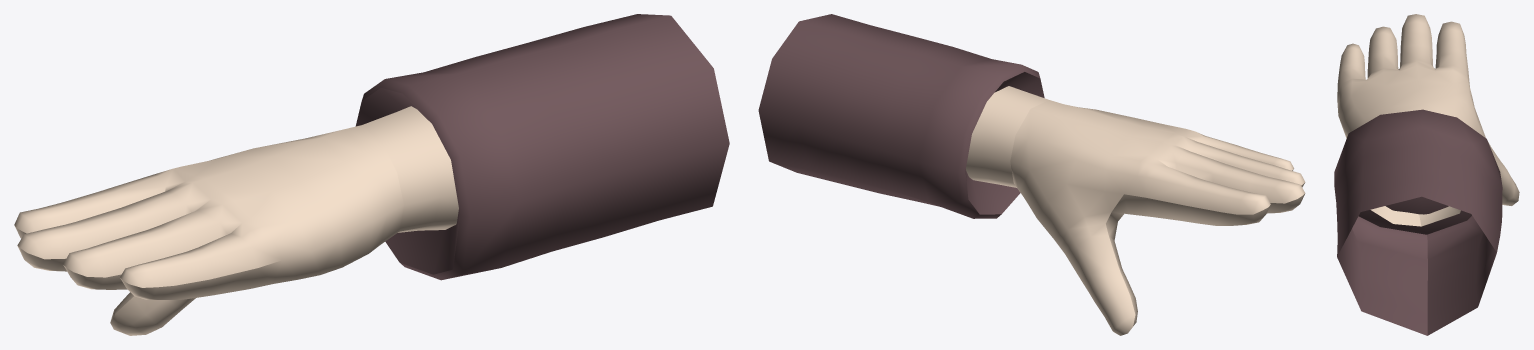
The model's file is mIzqOak.obj.
The picture shows the model from 3 angles, left to right: view 1: azimuth 30°, elevation 25°; view 2: azimuth 150°, elevation 25°; view 3: azimuth 270°, elevation 25°; orthographic projection. The views are drawn at different scales.
Parts seen in each view (by area): view 1: ManoIzq_body.001, LHand, LForeArmEX, LFingerE1, LFingerC3, LFingerD3, LFingerD1, LFingerC1, LFingerA3, LFingerE3, LFingerE2, LForeArm (+6 smaller); view 2: ManoIzq_body.001, LHand, LForeArmEX, LFingerA2, LFingerB1, LFingerA3, LFingerA1, LFingerB2, LFingerB3, LFingerC3, LForeArm, LFingerC1 (+4 smaller); view 3: ManoIzq_body.001, LHand, LForeArm, LFingerC3, LFingerC2, LFingerB3, LFingerB1, LFingerC1, LFingerA3, LFingerB2, LFingerD3, LFingerD1 (+5 smaller).
Part boxes in pixels (<box>): ManoIzq_body.001: <box>355,14,729,280</box>; LHand: <box>168,129,403,283</box>; LForeArmEX: <box>345,111,450,244</box>; LFingerE1: <box>194,223,281,298</box>; LFingerC3: <box>17,222,90,271</box>; LFingerD3: <box>63,240,127,289</box>; LFingerD1: <box>159,200,242,255</box>; LFingerC1: <box>122,182,210,234</box>; LFingerA3: <box>110,292,186,335</box>; LFingerE3: <box>120,258,174,299</box>; LFingerE2: <box>161,247,211,299</box>; LForeArm: <box>399,106,458,230</box>; ManoIzq_body.001: <box>758,14,1044,218</box>; LHand: <box>1010,104,1194,223</box>; LForeArmEX: <box>982,86,1078,187</box>; LFingerA2: <box>1054,217,1122,280</box>; LFingerB1: <box>1129,159,1197,223</box>; LFingerA3: <box>1082,264,1137,335</box>; LFingerA1: <box>1026,184,1084,239</box>; LFingerB2: <box>1185,177,1231,225</box>; LFingerB3: <box>1220,187,1270,225</box>; LFingerC3: <box>1249,175,1305,213</box>; LForeArm: <box>966,92,1001,184</box>; LFingerC1: <box>1157,145,1225,183</box>; ManoIzq_body.001: <box>1334,109,1502,335</box>; LHand: <box>1337,61,1485,138</box>; LForeArm: <box>1370,206,1460,226</box>; LFingerC3: <box>1400,14,1432,45</box>; LFingerC2: <box>1400,33,1432,63</box>; LFingerB3: <box>1436,21,1466,52</box>; LFingerB1: <box>1435,53,1469,86</box>; LFingerC1: <box>1399,47,1434,70</box>; LFingerA3: <box>1501,162,1519,205</box>; LFingerB2: <box>1435,39,1468,68</box>; LFingerD3: <box>1368,26,1397,55</box>; LFingerD1: <box>1367,56,1399,79</box>.
Bounding box in the file's own units: 41.47 × 14.87 × 14.14.
